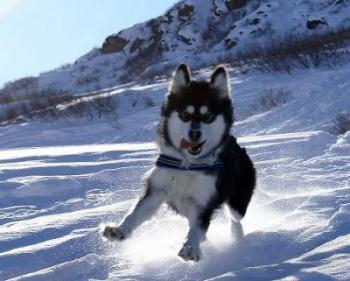dog: (99, 63, 259, 263)
